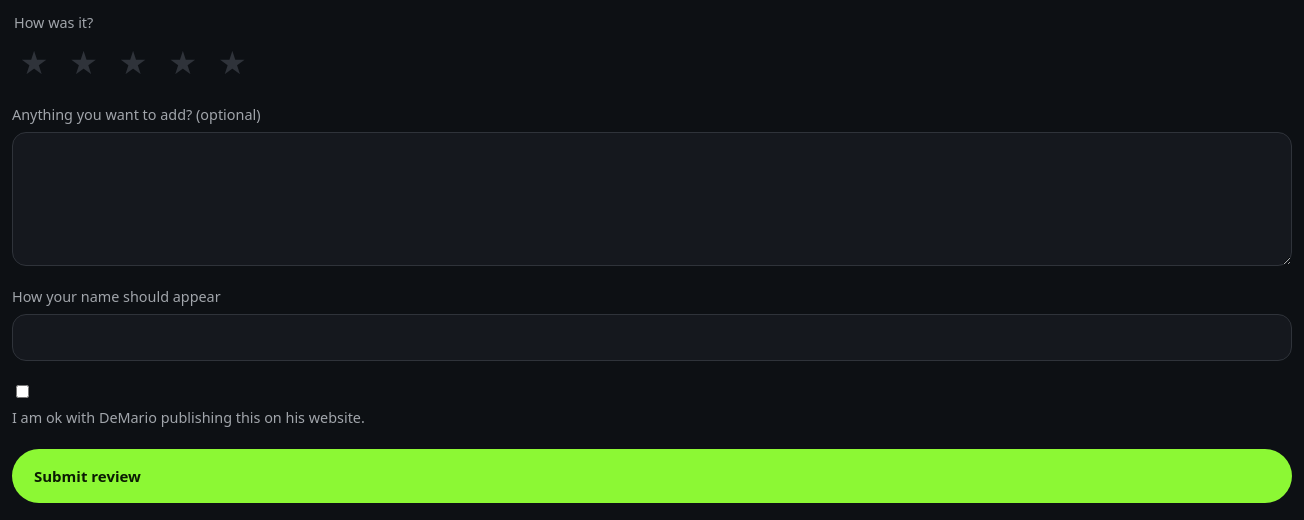
Test: ReviewForm thank-you › thanks a stars-only rating without promising it will show
Click the radio button named "4 stars" at (183, 62), box [168,40,197,83]
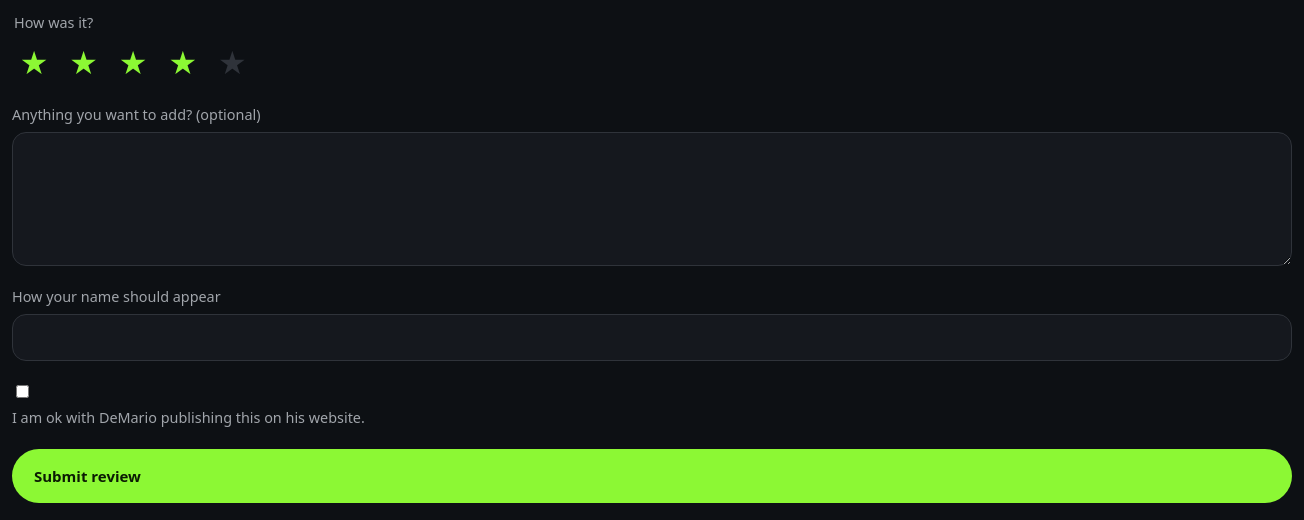
Type "Sam P." into the field labelled "How your name should appear" at (652, 338), box [12,314,1292,362]
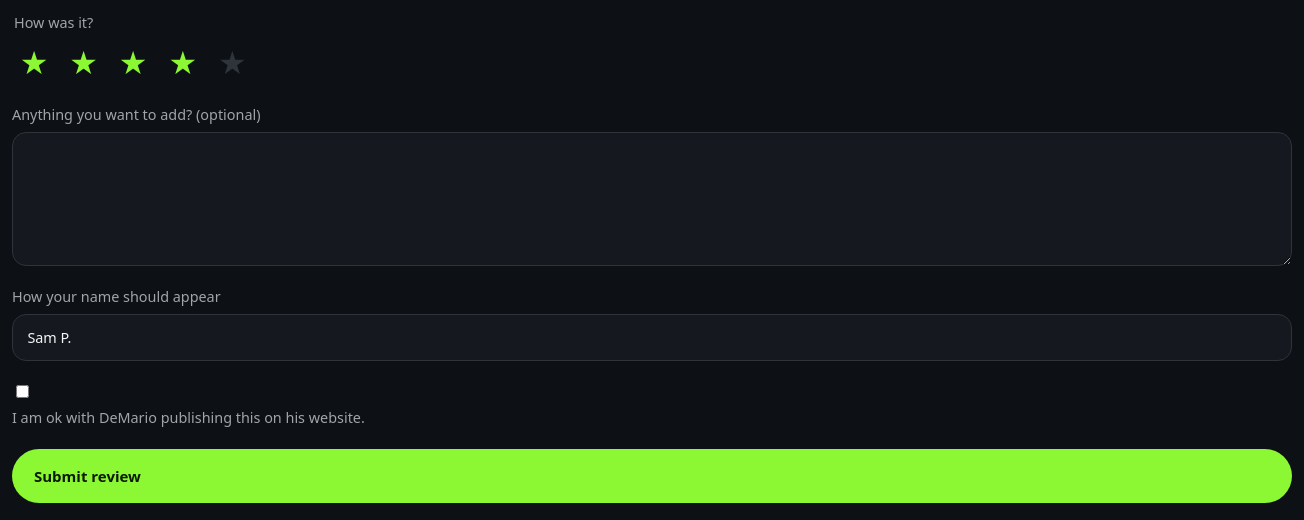
Click the checkbox at (22, 391), box [16,385,29,398]
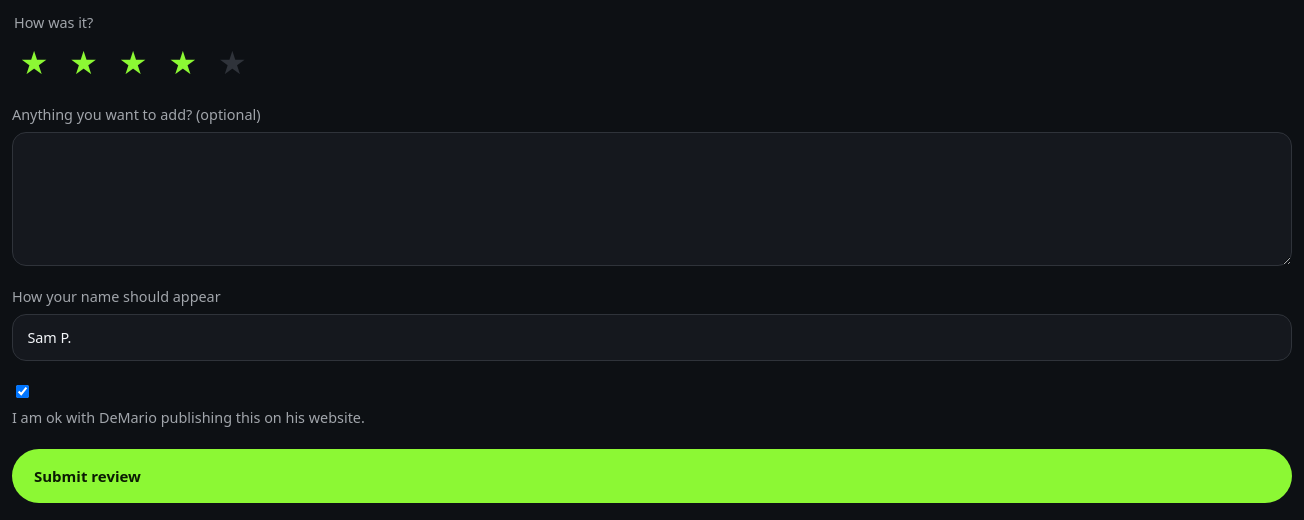
Submit the form named "submit review"
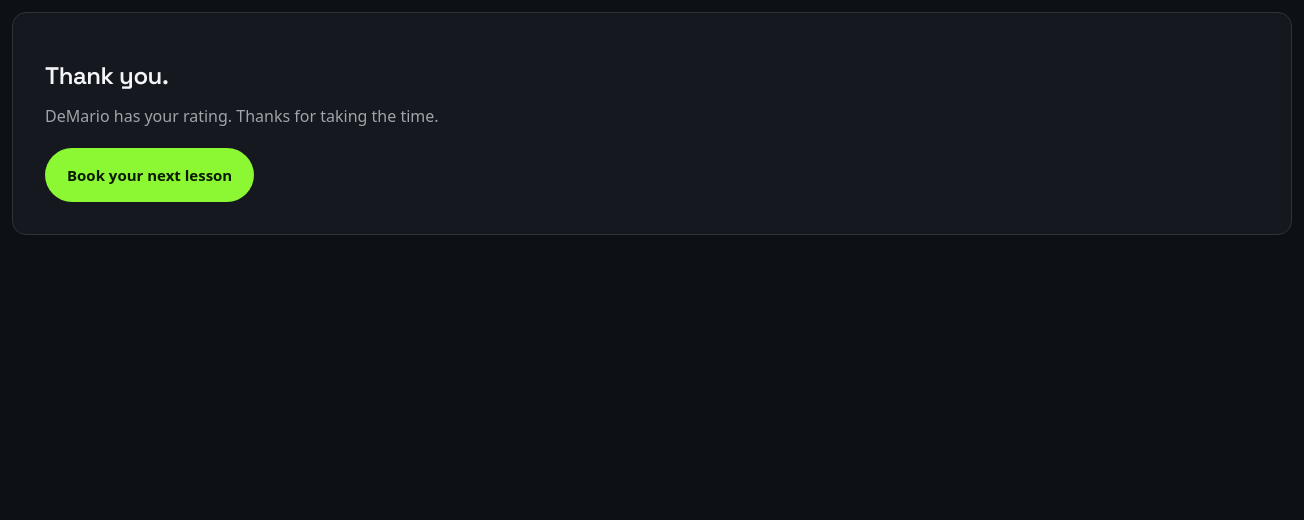
Expected: the text "DeMario has your rating. Thanks for taking the time." is shown, [45,105,439,127]
